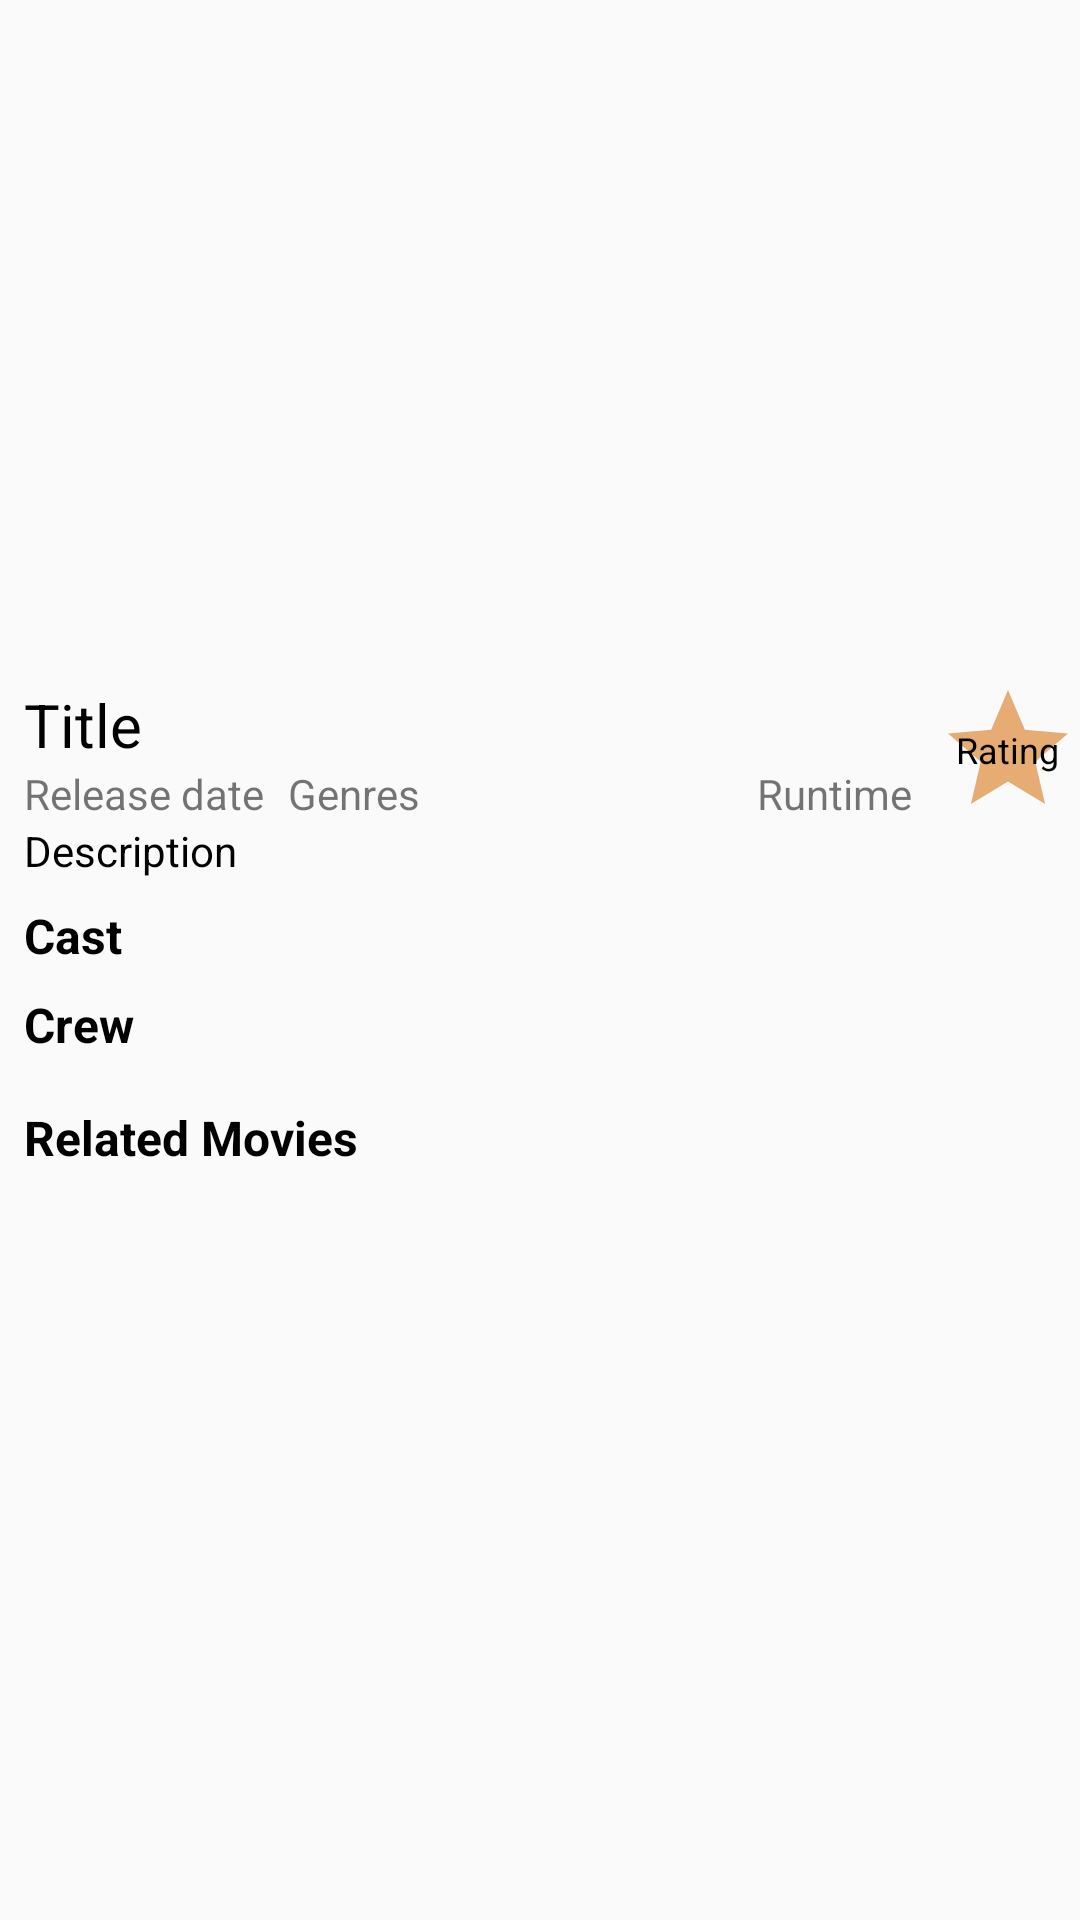

Icon bounding boxes for this 1080x1920 phone screenshot, format (x1, y1, x2, y2):
star: (948, 690, 1068, 804)
